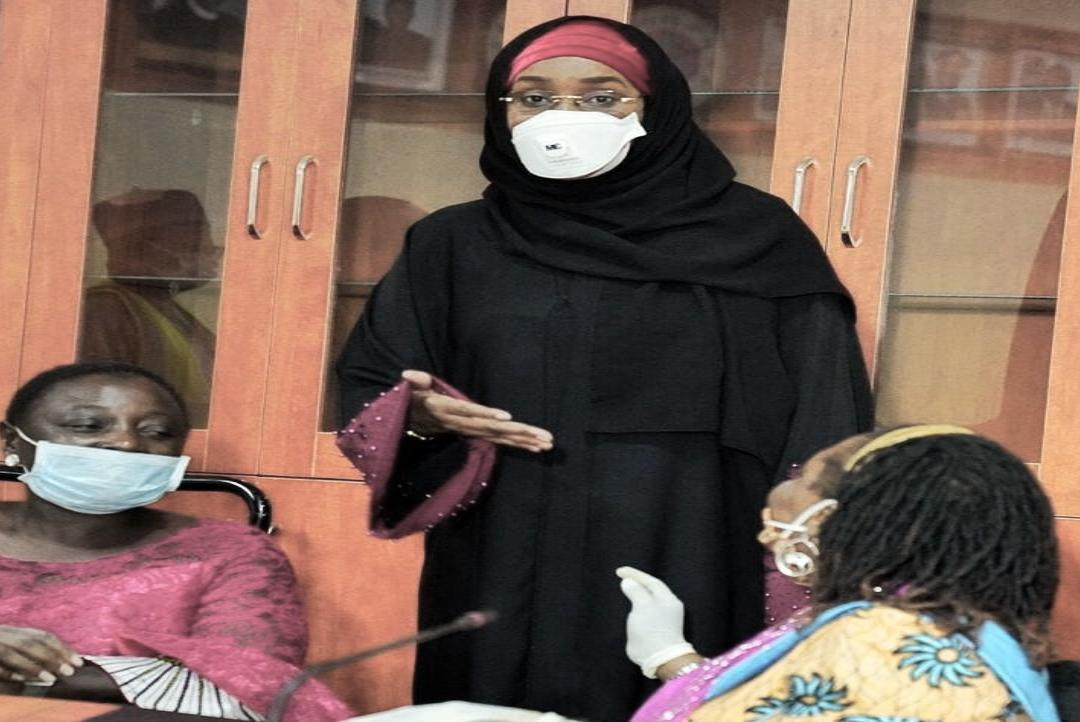mask_weared_incorrect: (0, 364, 192, 517)
